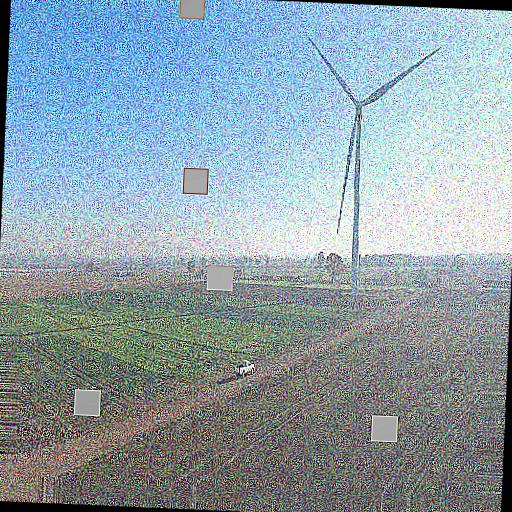wind turbine: (306, 32, 444, 285)
